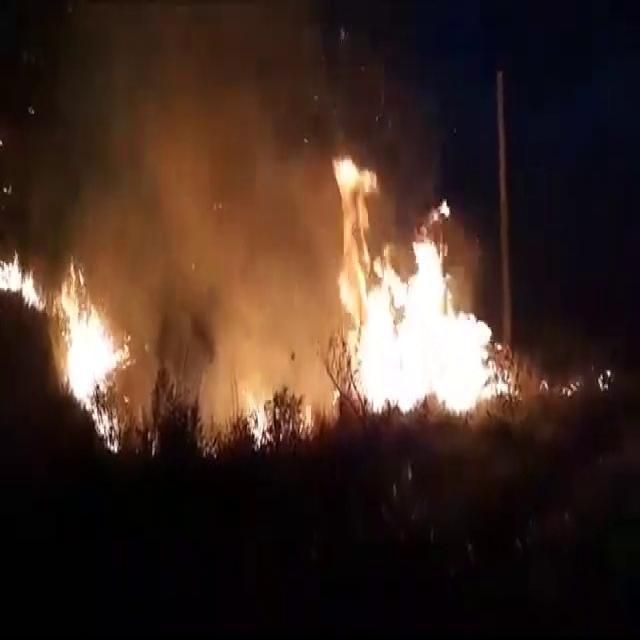Fire: (328, 170, 505, 418), (44, 262, 125, 458), (0, 243, 42, 319)
Smoke: (43, 0, 344, 328)
